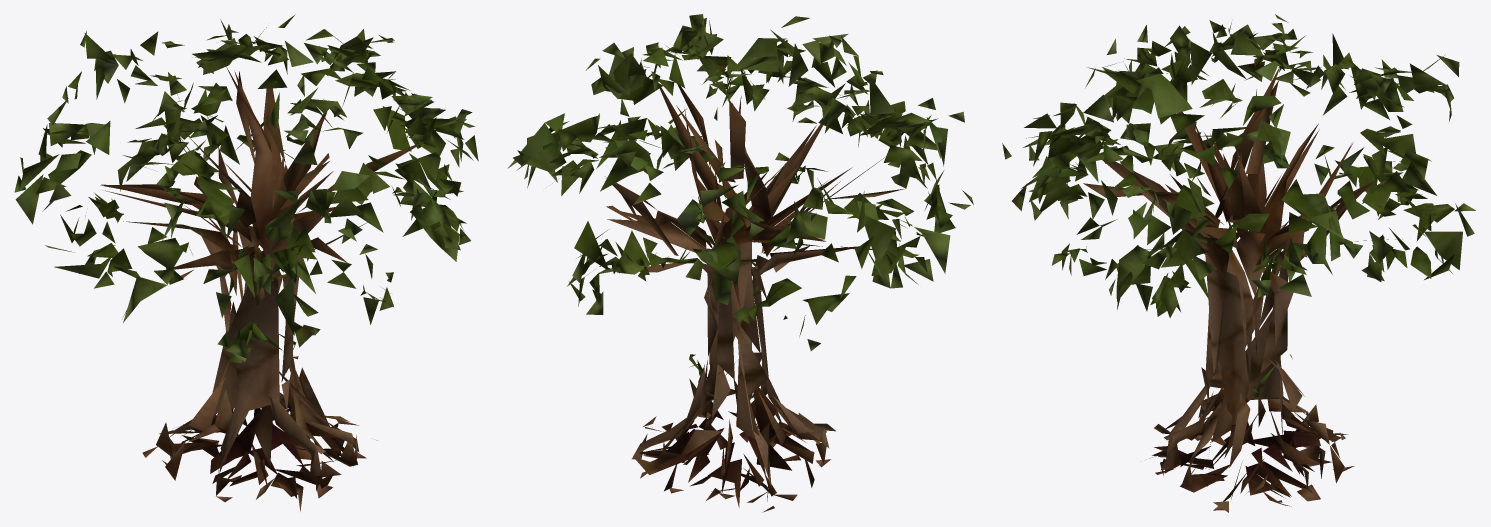
The model's file is jun_kapok_tree_buttress_LOD3.glb.
3 renders of one model, left to right at view 1: azimuth 30°, elevation 25°; view 2: azimuth 150°, elevation 25°; view 3: azimuth 270°, elevation 25°, orthographic.
Parts seen in each view (by area): view 1: tripo_node_eeae2858-041e-427f-a393-b277f6530104; view 2: tripo_node_eeae2858-041e-427f-a393-b277f6530104; view 3: tripo_node_eeae2858-041e-427f-a393-b277f6530104.
Boxes of the visible parts, x1,y1,x2,y2 form: tripo_node_eeae2858-041e-427f-a393-b277f6530104: [14, 14, 478, 511]; tripo_node_eeae2858-041e-427f-a393-b277f6530104: [507, 14, 973, 512]; tripo_node_eeae2858-041e-427f-a393-b277f6530104: [1002, 14, 1475, 512].
Size of the model in its own units: 0.9691 by 1.01 by 0.994.
Materials: 1 (1 with a texture image).
